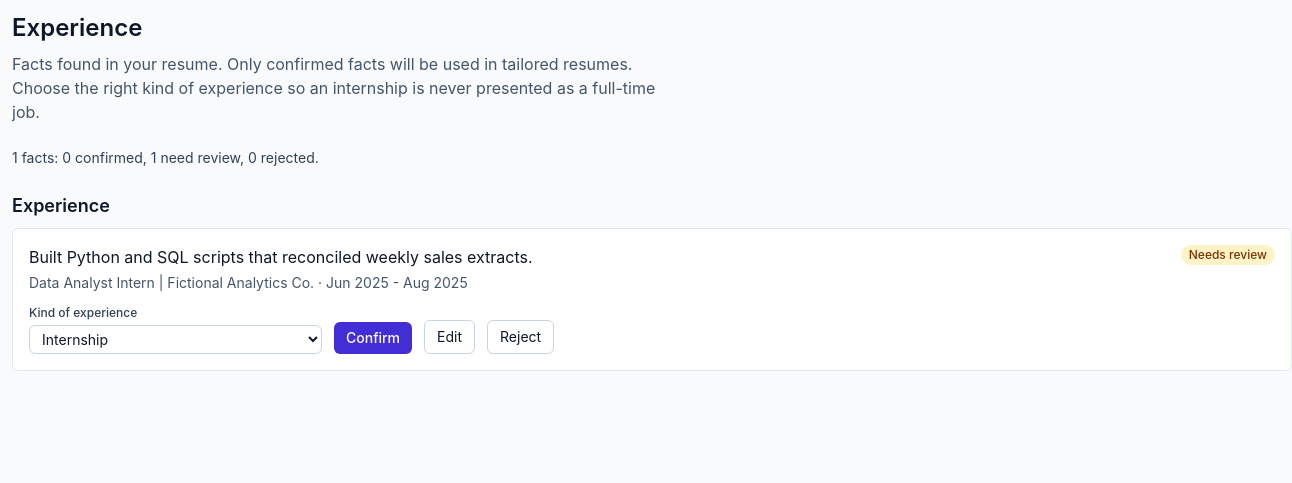
Test: ExperiencePage › reloads when the item changed in another tab
The image size is (1292, 483).
Click the button "Reject" at [521, 337], box [487,320,554,354]
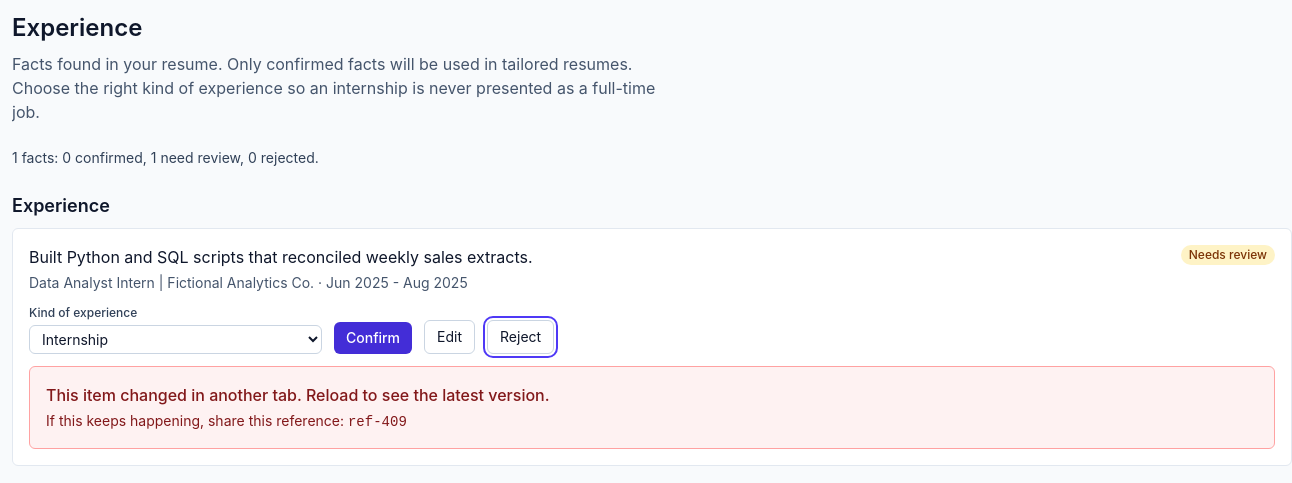
Expected: the 2nd message shows "changed in another tab", [46,385,550,405]
